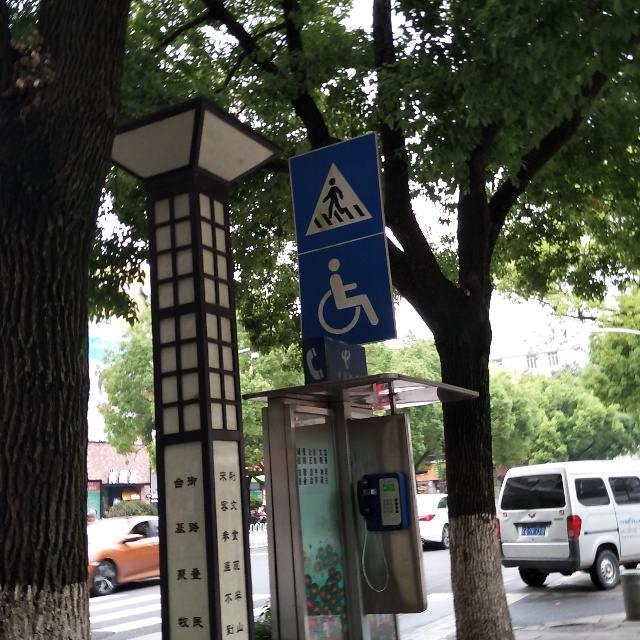crosswalk: (293, 154, 380, 239)
